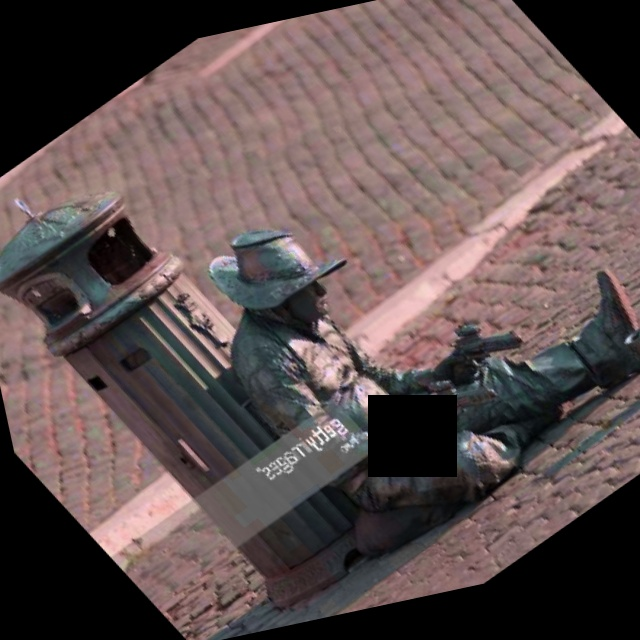gun: (418, 292, 534, 393)
